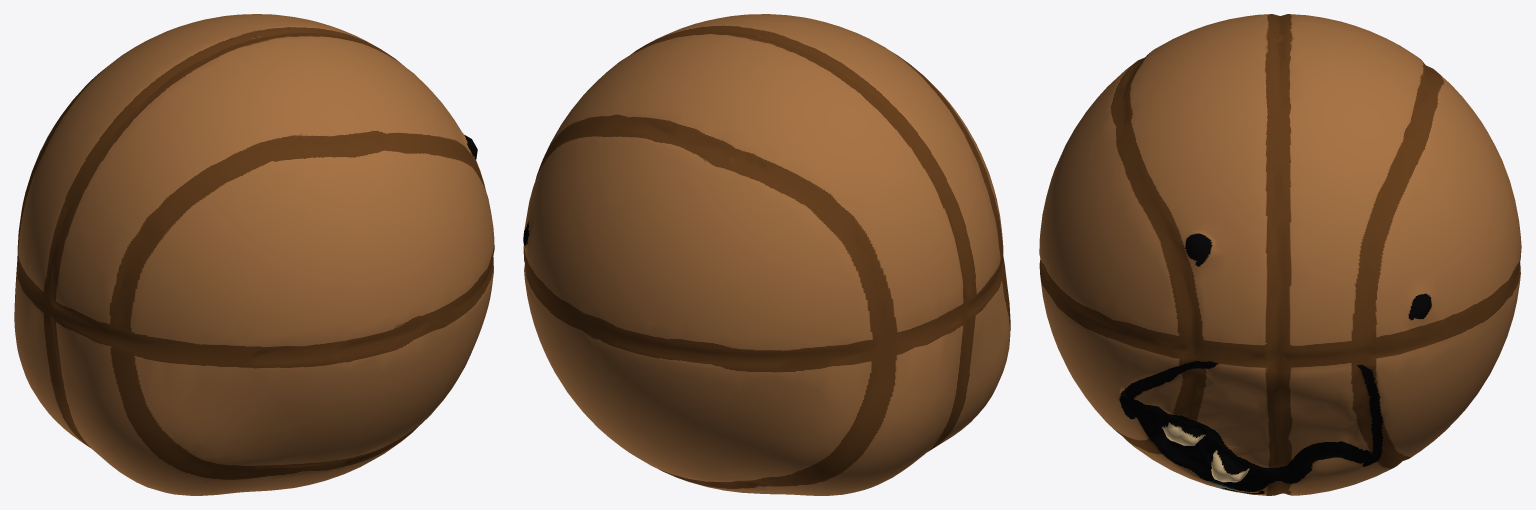
The model's file is basketball.glb.
3 views of the same model, side by side, from view 1: azimuth 30°, elevation 25°; view 2: azimuth 150°, elevation 25°; view 3: azimuth 270°, elevation 25° (orthographic).
Parts seen in each view (by area): view 1: basketball; view 2: basketball; view 3: basketball.
Boxes of the visible parts, x1,y1,x2,y2 form: basketball: (14,14,494,495); basketball: (523,14,1010,495); basketball: (1039,14,1521,495).
Bounding box in the file's own units: 2 × 2 × 2.
1 material, 1 textured.
